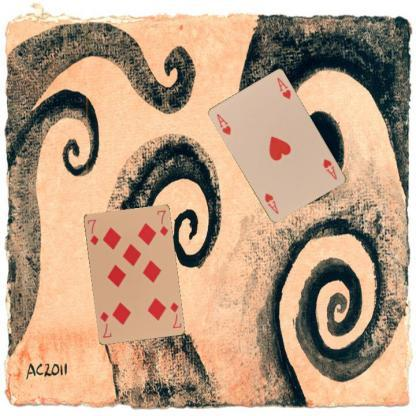7d: (84, 217, 100, 246), (167, 300, 182, 330)
Ah: (214, 111, 233, 136), (320, 156, 338, 181)
